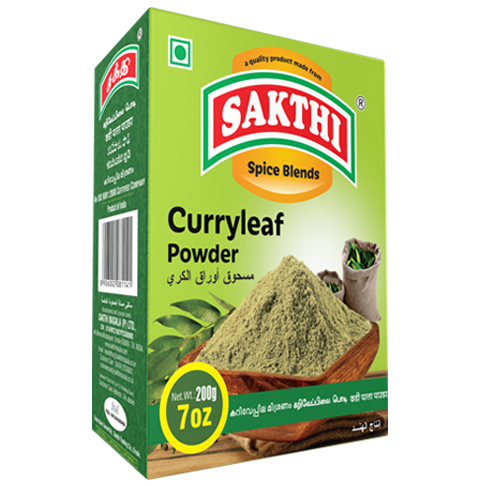VEG: (167, 34, 195, 71)
